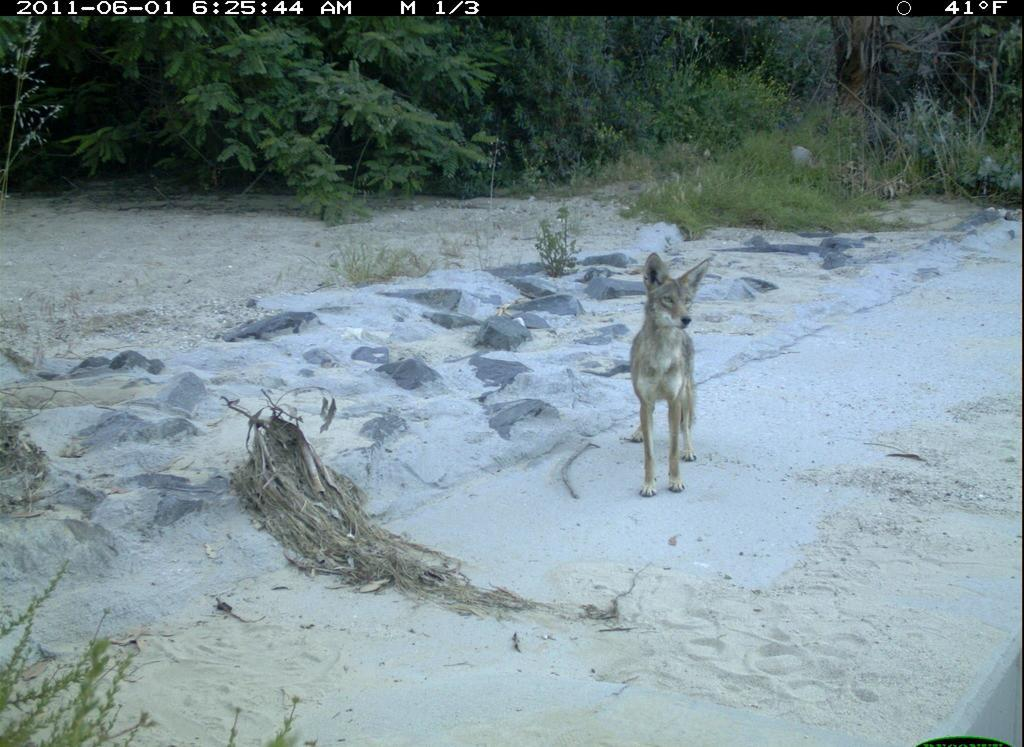coyote: (619, 239, 724, 504)
